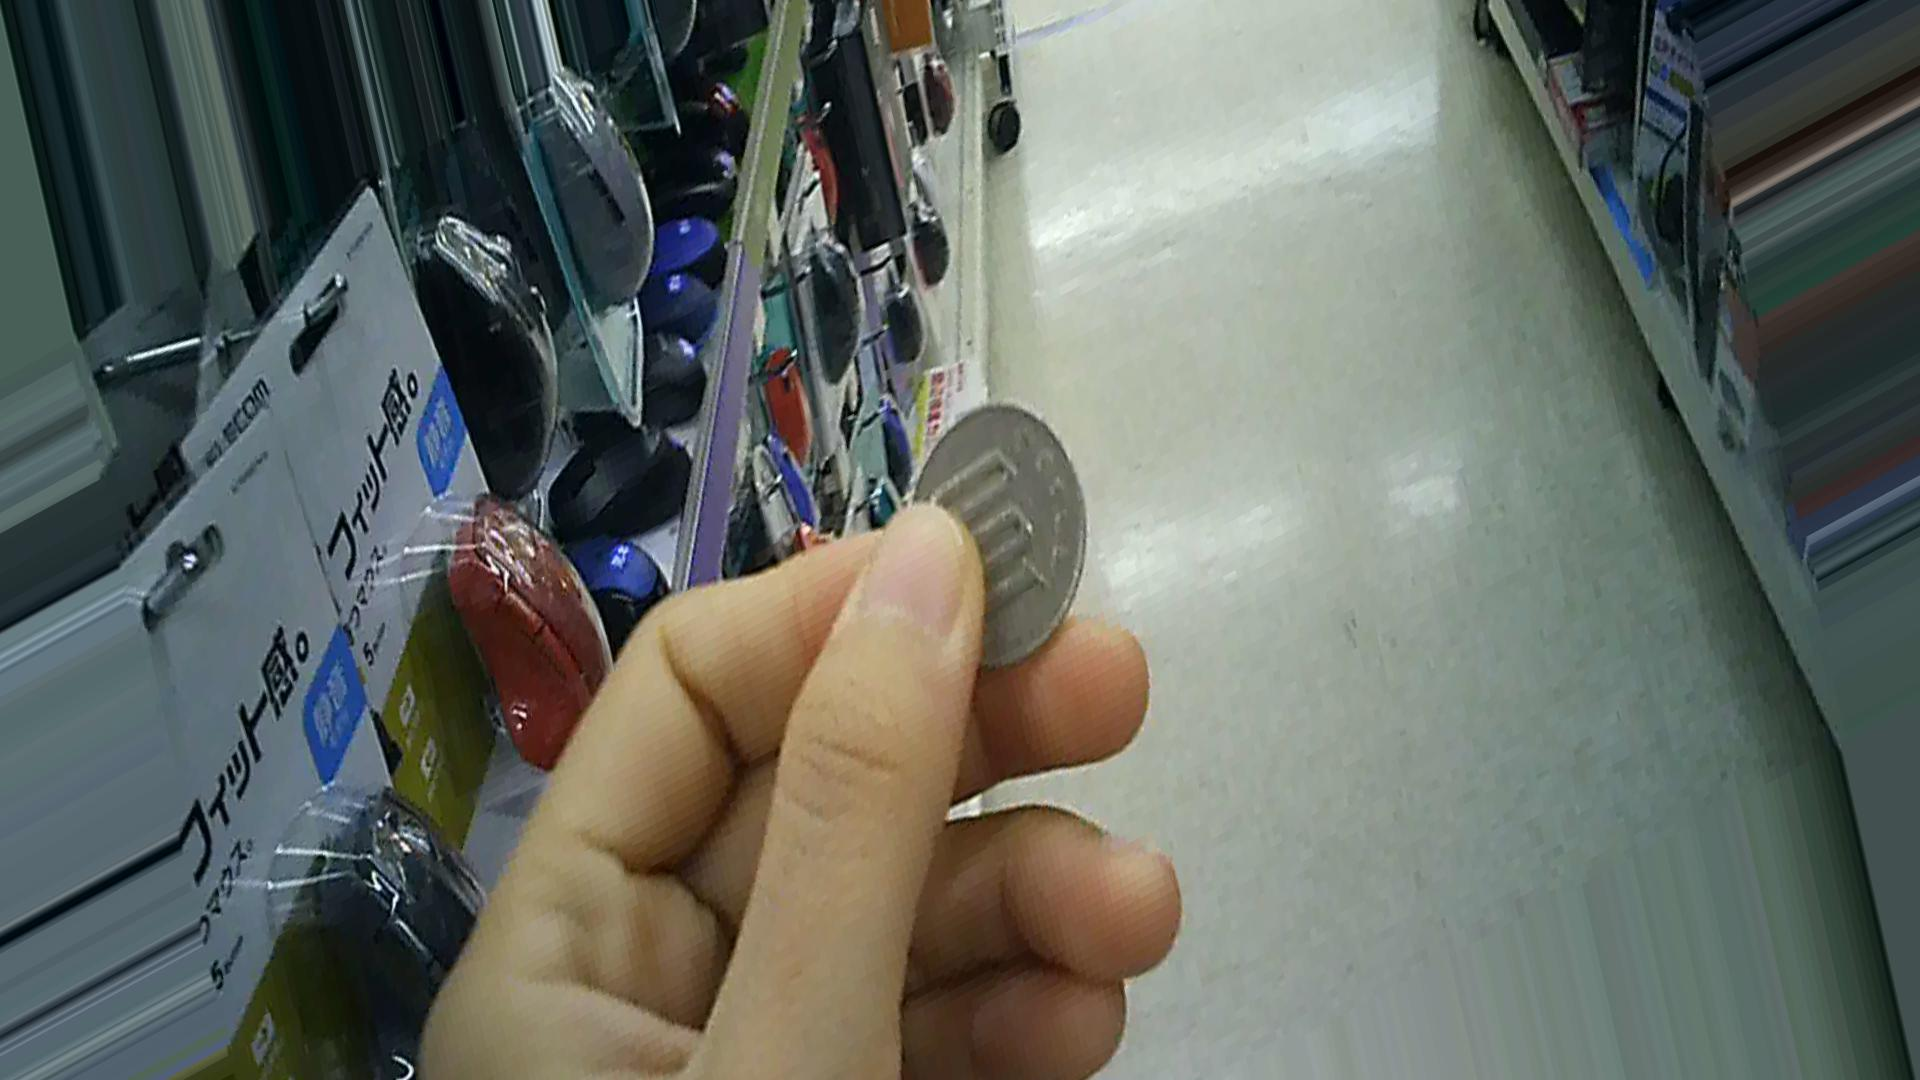100 Yen: (891, 393, 1106, 687)
